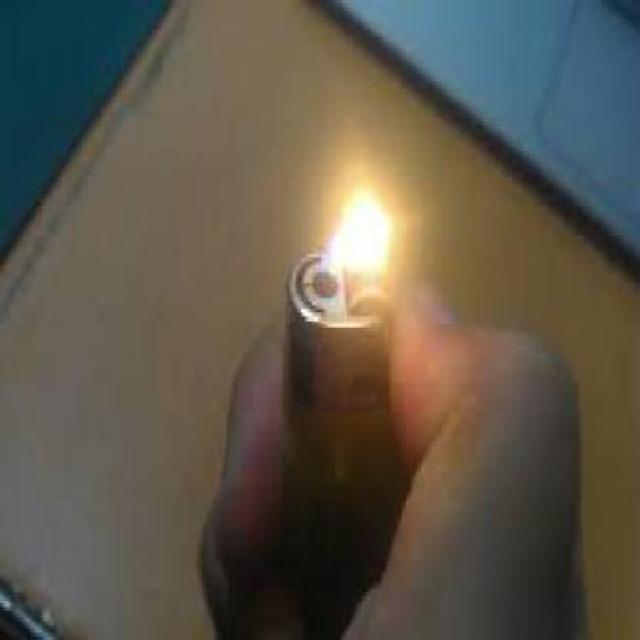Fire: (325, 174, 402, 289)
